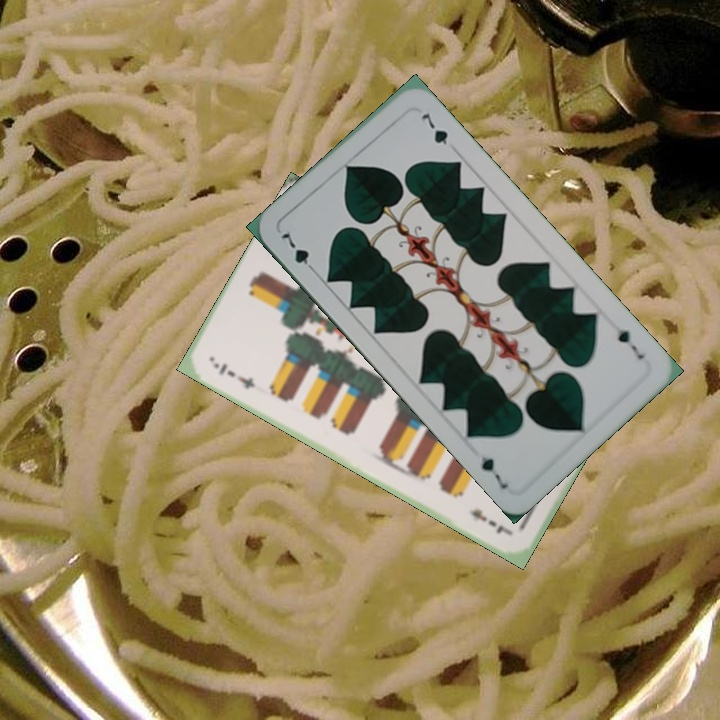E7: (209, 358, 258, 392)
G7: (277, 228, 320, 277), (610, 319, 647, 362)
